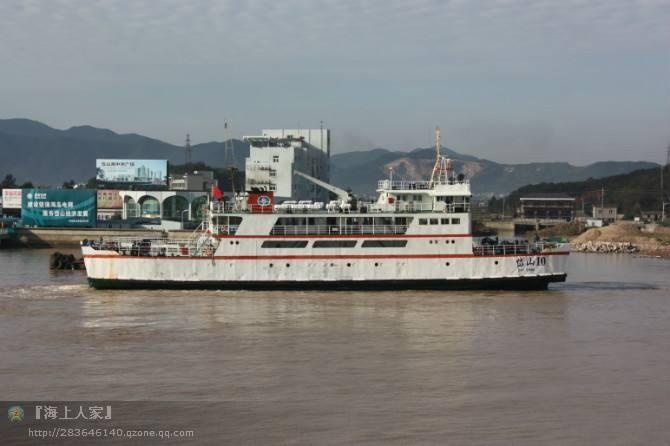otherboat: (77, 157, 570, 293)
